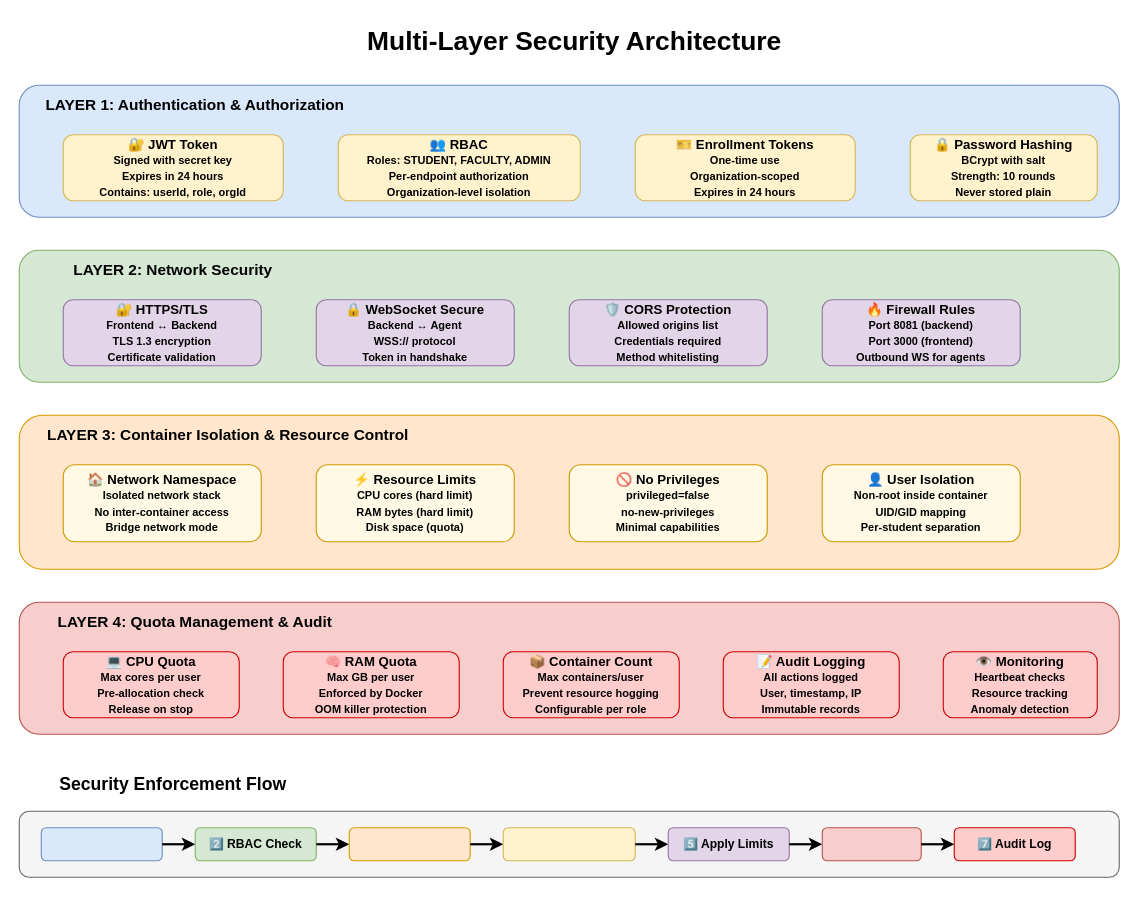
The diagram is 1139 pixels wide and 897 high, and some of its shapes have lost their labels. Here are the shapes that lost their labels. From the top down, the centre of each, then its label:
At pixel 101 844: "1️⃣ JWT Auth".
At pixel 409 844: "3️⃣ Quota Check".
At pixel 568 844: "4️⃣ Create Container".
At pixel 871 844: "6️⃣ Isolate".
